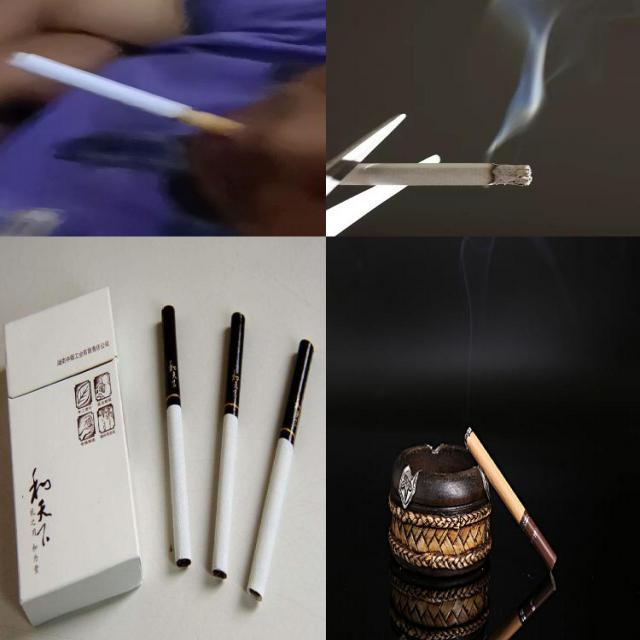smoke: (12, 52, 250, 142), (247, 338, 314, 602), (463, 425, 558, 571), (211, 312, 246, 580), (162, 306, 192, 568), (326, 162, 536, 188), (490, 569, 558, 639)
